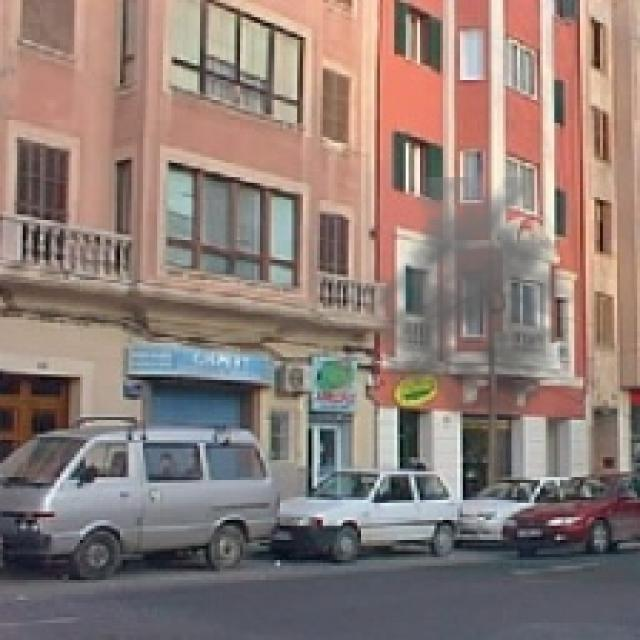Smoke: (363, 177, 591, 429)
